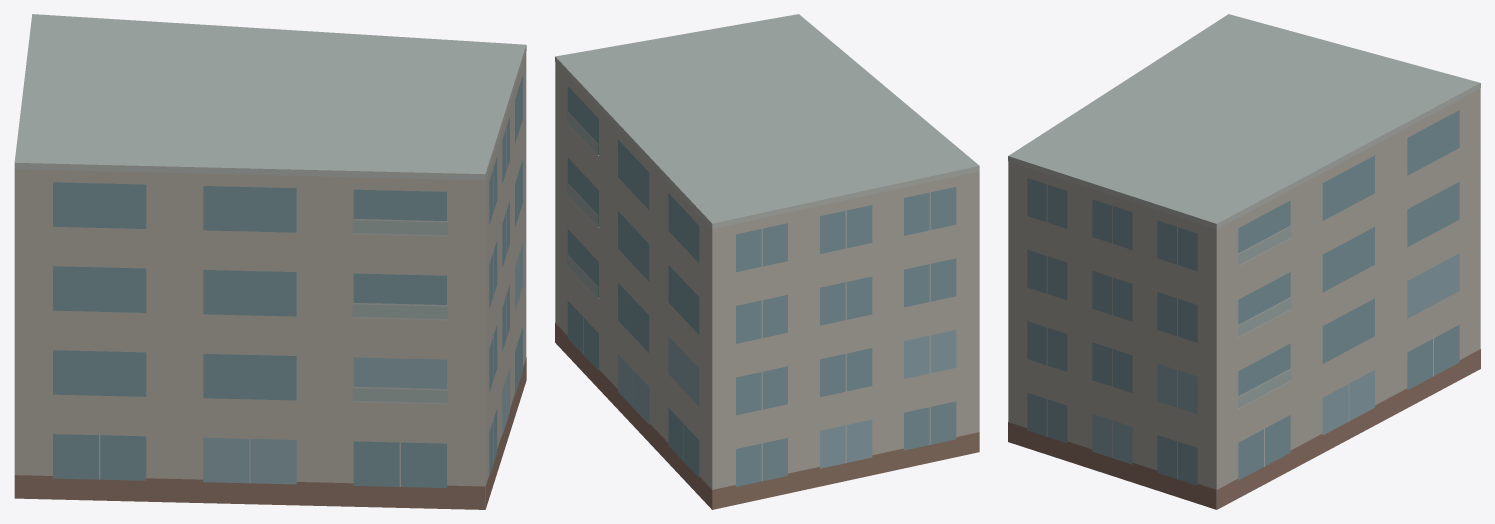
Rendered from survey-upis-32933082.glb.
3 views of the same model, side by side, from view 1: azimuth 30°, elevation 25°; view 2: azimuth 150°, elevation 25°; view 3: azimuth 270°, elevation 25° (orthographic). The views are drawn at different scales.
Visible parts, largest first — view 1: survey-upis-32933082.tmp; view 2: survey-upis-32933082.tmp; view 3: survey-upis-32933082.tmp.
Boxes of the visible parts, <box> form: survey-upis-32933082.tmp: <box>14,14,526,509</box>; survey-upis-32933082.tmp: <box>555,14,979,509</box>; survey-upis-32933082.tmp: <box>1008,14,1480,509</box>.
Size of the model in its own units: 20.39 by 12.95 by 19.41.
